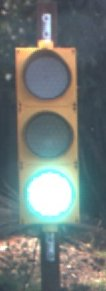Green: (5, 37, 87, 251)
